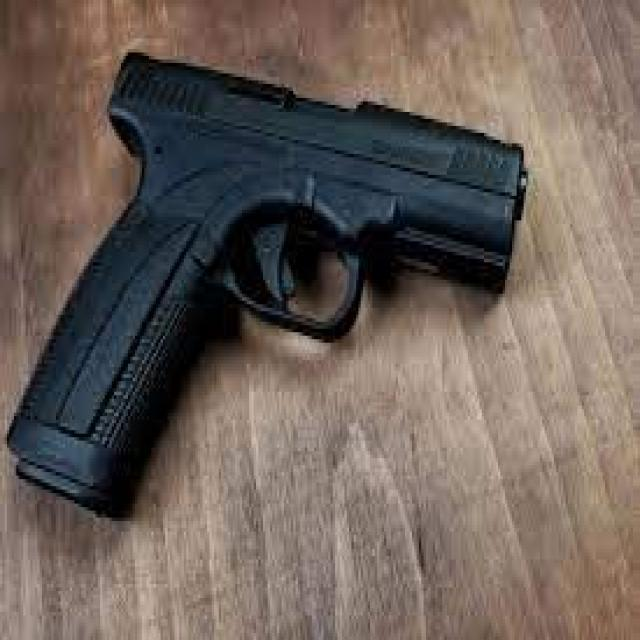Gun: (0, 38, 559, 546)
